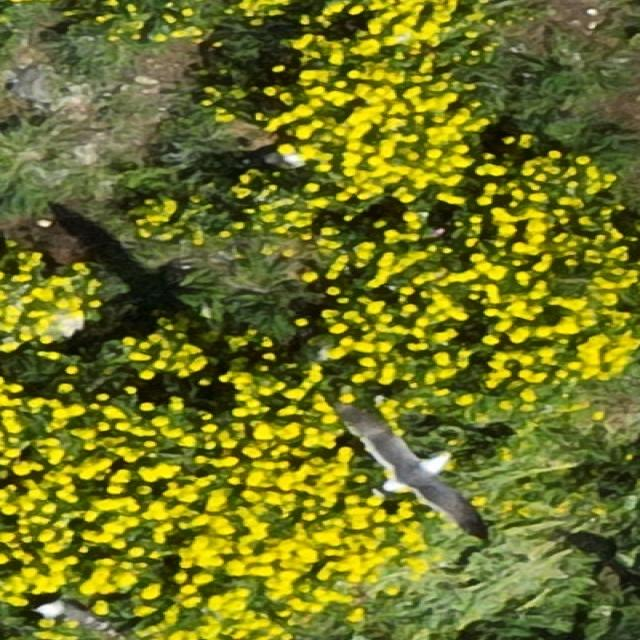F: (362, 425, 456, 505)
umineko: (34, 602, 110, 635)
